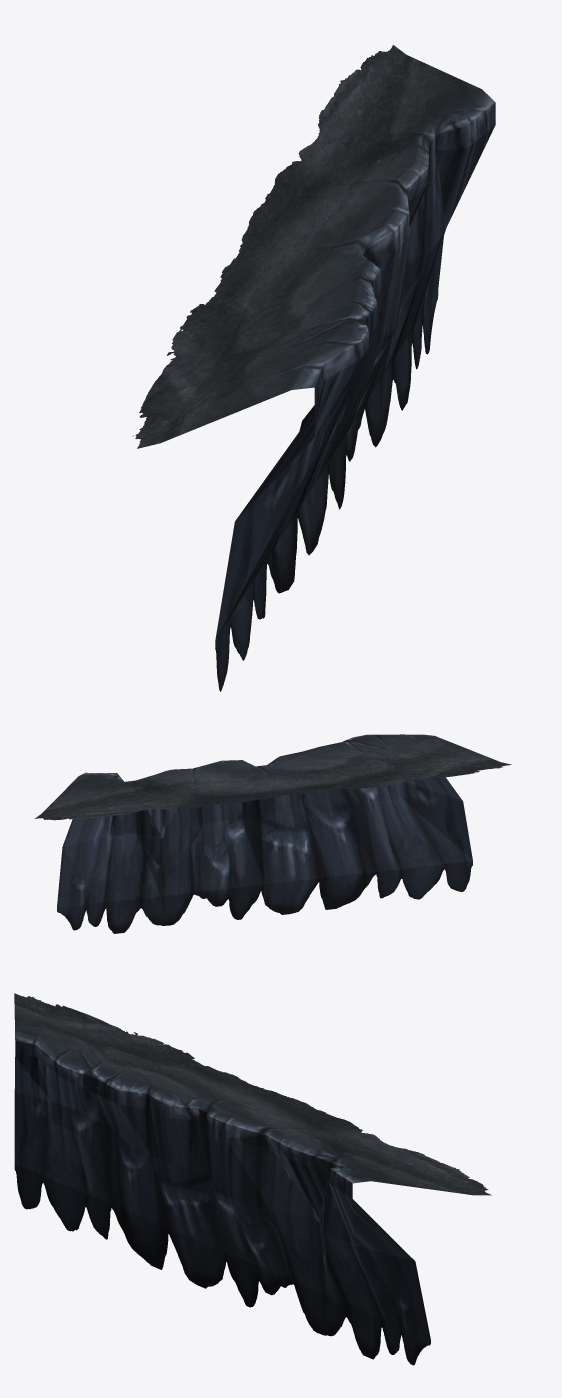
The model's file is mine_trim_diagonal_01.fbx.
3 renders of one model, top to bottom at view 1: azimuth 30°, elevation 25°; view 2: azimuth 150°, elevation 25°; view 3: azimuth 270°, elevation 25°, orthographic. The views are drawn at different scales.
Visible parts, largest first — view 1: obj0.013; view 2: obj0.013; view 3: obj0.013.
Part boxes in pixels (x1,y1,x2,y2): obj0.013: (132, 45, 495, 691); obj0.013: (34, 734, 511, 933); obj0.013: (14, 993, 491, 1365).
Bounding box in the file's own units: 4.65 × 1.98 × 4.65.
